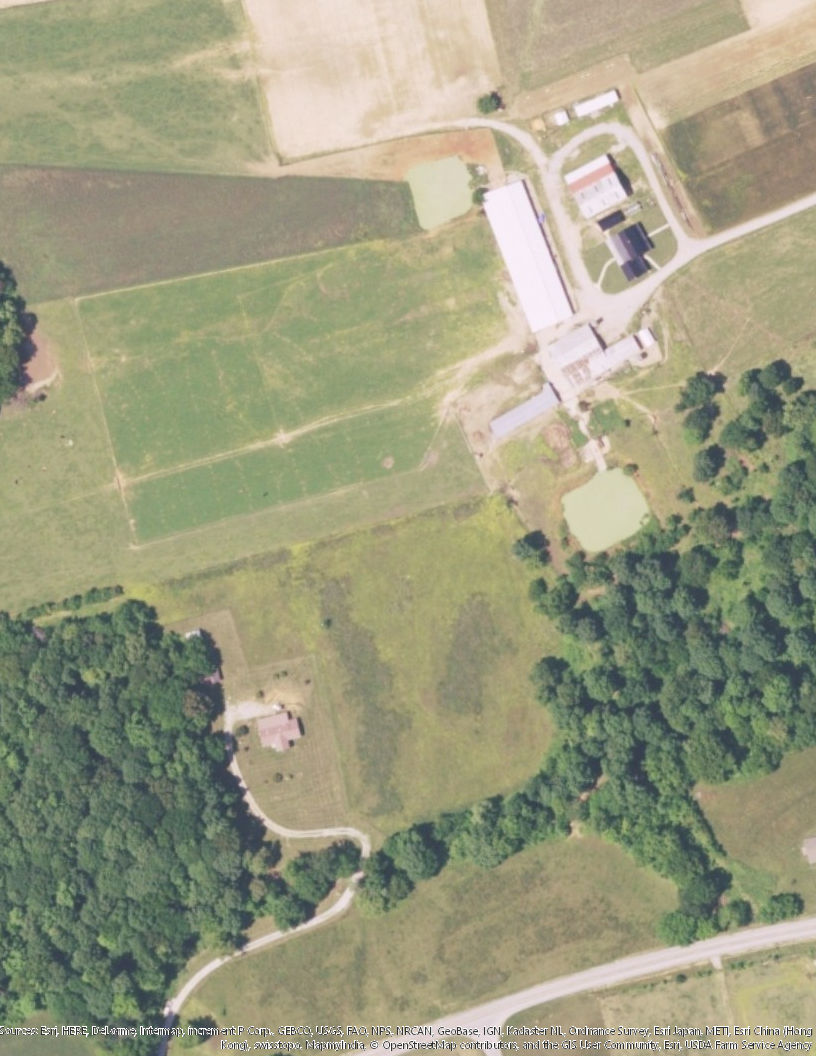cafo: (480, 175, 586, 336), (488, 381, 565, 445), (589, 324, 657, 384), (548, 323, 607, 373)
